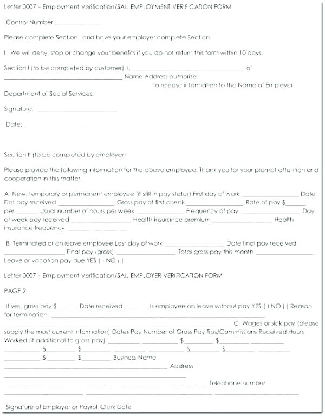checkbox: (262, 301, 269, 311), (281, 301, 288, 311)
textline: (1, 378, 209, 388), (49, 311, 267, 320), (2, 319, 233, 327), (1, 371, 191, 380), (2, 362, 169, 371), (84, 387, 213, 398), (3, 80, 153, 89), (212, 386, 301, 399), (131, 62, 243, 72), (3, 71, 123, 80), (23, 119, 116, 130), (35, 103, 120, 114), (2, 387, 84, 397), (240, 187, 301, 198), (253, 247, 315, 256), (113, 246, 175, 255), (183, 197, 243, 206), (238, 207, 302, 215), (64, 224, 128, 232), (209, 214, 273, 222), (163, 239, 226, 247), (2, 248, 65, 256), (68, 214, 130, 222), (56, 198, 116, 206), (1, 342, 42, 353), (250, 334, 286, 346), (145, 344, 186, 354), (134, 207, 184, 215), (140, 336, 179, 346), (111, 344, 147, 354), (54, 19, 105, 26), (182, 334, 214, 345), (217, 334, 249, 345), (45, 343, 77, 353), (105, 335, 140, 344), (81, 344, 111, 354), (224, 345, 255, 354), (255, 346, 294, 353), (2, 355, 41, 362), (188, 345, 218, 353), (123, 301, 149, 310), (45, 355, 77, 362), (80, 354, 111, 361), (12, 206, 38, 214), (56, 301, 79, 310), (284, 198, 309, 206)
